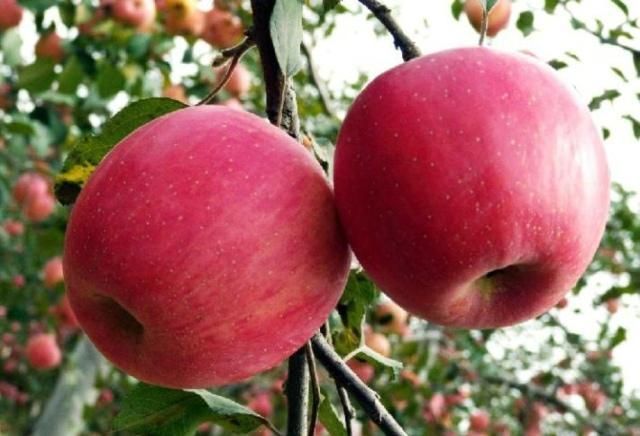apple: (63, 107, 352, 393), (344, 48, 620, 334)
